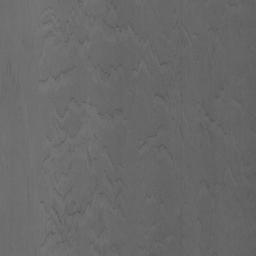Silk spot: (39, 65, 77, 82), (51, 203, 66, 226), (103, 18, 127, 32), (65, 205, 86, 216), (87, 149, 98, 165), (70, 97, 86, 106), (106, 175, 122, 184), (154, 92, 169, 100), (97, 112, 114, 119)
